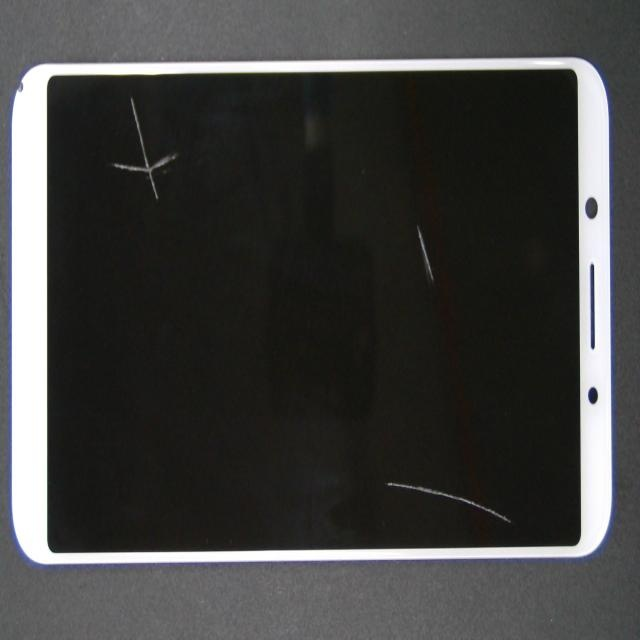scratch: (326, 280, 640, 640), (239, 141, 640, 357), (68, 85, 221, 302)
